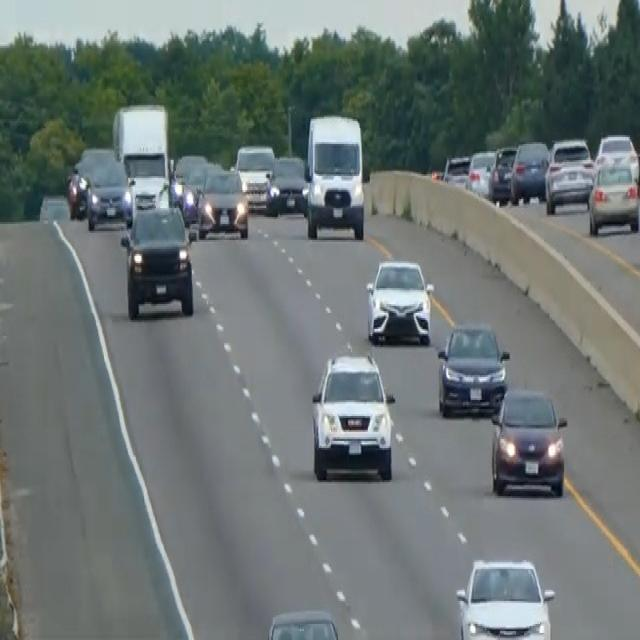car: (489, 386, 567, 498), (455, 556, 555, 638), (436, 320, 509, 416), (364, 256, 434, 347), (587, 153, 639, 235), (196, 164, 249, 238), (544, 135, 594, 213), (66, 146, 114, 218), (85, 153, 130, 229), (234, 142, 275, 212), (122, 172, 172, 226), (509, 138, 549, 204), (266, 153, 307, 215), (171, 153, 207, 222), (263, 608, 344, 638), (594, 131, 639, 185), (488, 144, 517, 203), (467, 148, 496, 198), (441, 153, 470, 190), (38, 192, 70, 224)
jeep: (308, 346, 397, 484), (119, 199, 195, 320)
lorry: (111, 100, 173, 220)
minibus: (303, 110, 366, 240)
